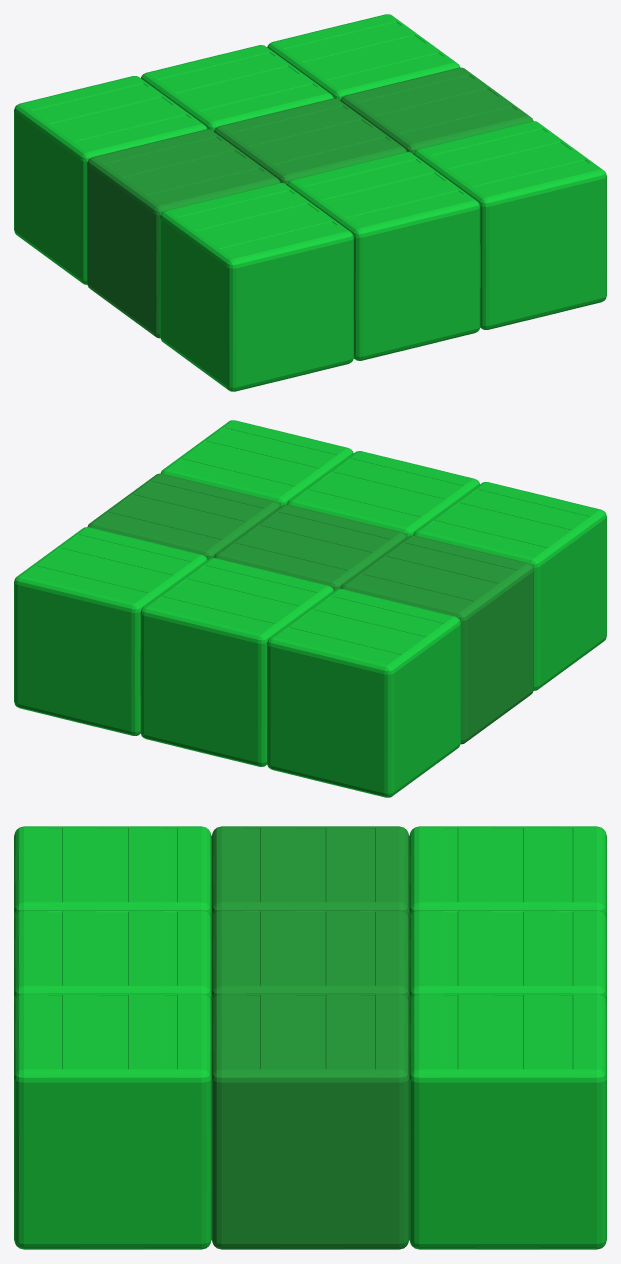
The picture shows the model from 3 angles, top to bottom: view 1: azimuth 30°, elevation 25°; view 2: azimuth 150°, elevation 25°; view 3: azimuth 270°, elevation 25°; orthographic projection. The views are drawn at different scales.
Parts seen in each view (by area): view 1: Cube.003, Cube.004, Cube.002; view 2: Cube.002, Cube.004, Cube.003; view 3: Cube.004, Cube.002, Cube.003.
Part boxes in pixels (bbox=[...]): Cube.003: bbox=[160, 121, 606, 391]; Cube.004: bbox=[87, 67, 533, 338]; Cube.002: bbox=[14, 14, 460, 284]; Cube.002: bbox=[14, 527, 460, 797]; Cube.004: bbox=[87, 473, 533, 744]; Cube.003: bbox=[160, 420, 606, 690]; Cube.004: bbox=[211, 826, 409, 1249]; Cube.002: bbox=[409, 826, 606, 1249]; Cube.003: bbox=[14, 826, 211, 1249].
Size of the model in its own units: 1200 by 400 by 1200.
